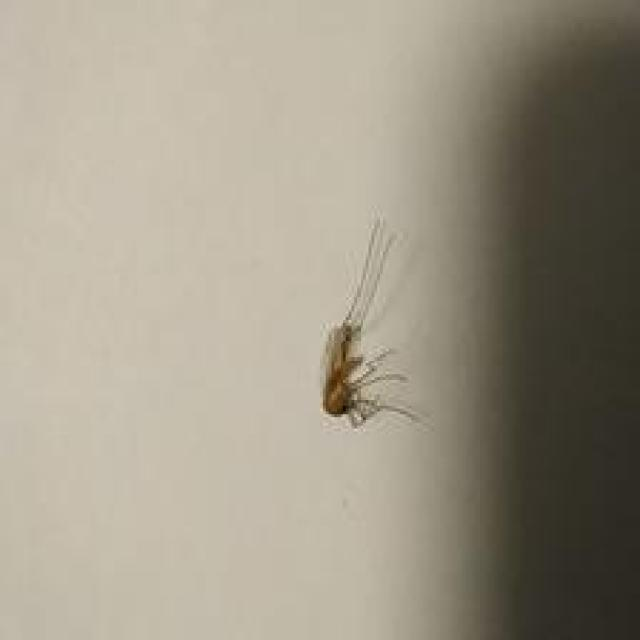Culex: (319, 216, 427, 430)
